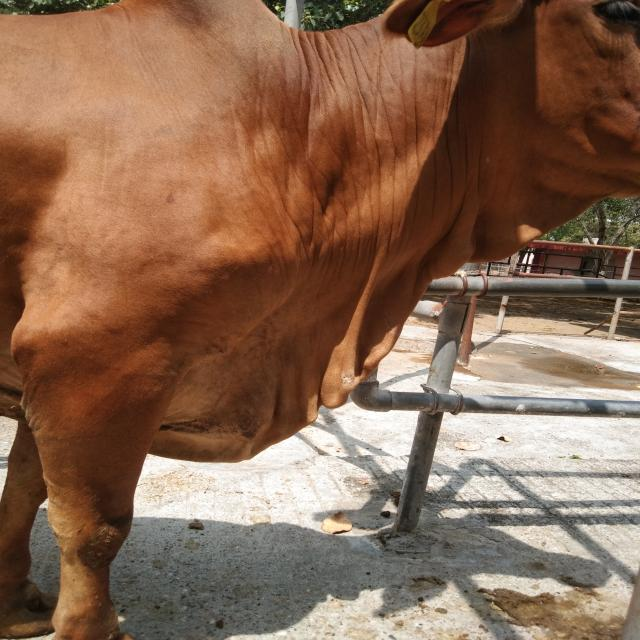Hoof: (0, 580, 57, 639)
